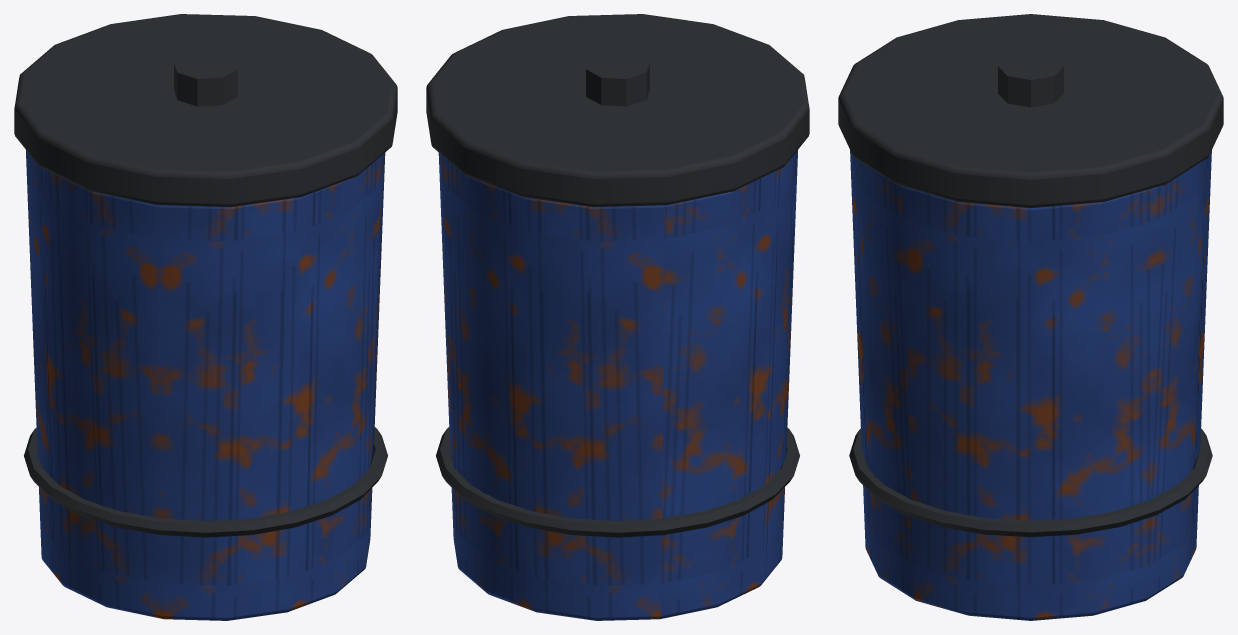
Rendered from bin.glb.
The picture shows the model from 3 angles, left to right: view 1: azimuth 30°, elevation 25°; view 2: azimuth 150°, elevation 25°; view 3: azimuth 270°, elevation 25°; orthographic projection.
Parts seen in each view (by area): view 1: bin; view 2: bin; view 3: bin.
Part boxes in pixels (<box>): bin: <box>14,14,397,620</box>; bin: <box>426,14,809,620</box>; bin: <box>838,14,1223,620</box>.
Bounding box in the file's own units: 0.7 × 0.975 × 0.7.
2 materials, 1 textured.
